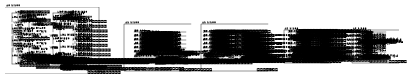corridor: (212, 22, 215, 48), (250, 17, 262, 20)
door: (369, 19, 370, 20), (387, 38, 388, 39), (389, 38, 390, 39), (390, 38, 391, 39), (384, 19, 385, 20), (390, 19, 391, 20), (372, 34, 373, 35), (374, 34, 375, 35), (372, 48, 373, 49), (374, 48, 375, 49), (389, 19, 389, 20), (386, 19, 386, 20), (368, 19, 368, 20), (368, 36, 368, 37), (370, 36, 370, 37), (393, 36, 394, 36), (395, 36, 396, 36), (372, 30, 373, 30), (372, 25, 373, 25), (374, 25, 374, 25), (374, 30, 375, 30), (372, 39, 373, 39), (374, 39, 375, 39), (372, 44, 373, 44), (374, 44, 375, 44), (378, 20, 378, 20), (382, 20, 382, 20), (372, 20, 372, 20), (374, 20, 374, 20), (376, 20, 376, 20), (380, 20, 380, 20)
room: (309, 22, 315, 25), (259, 22, 263, 25), (300, 26, 303, 30), (368, 15, 370, 20), (300, 41, 303, 44), (368, 34, 370, 37), (373, 32, 376, 33), (369, 20, 372, 21), (371, 37, 373, 38), (378, 19, 379, 21), (369, 38, 371, 38), (377, 20, 377, 21), (371, 19, 374, 19)
